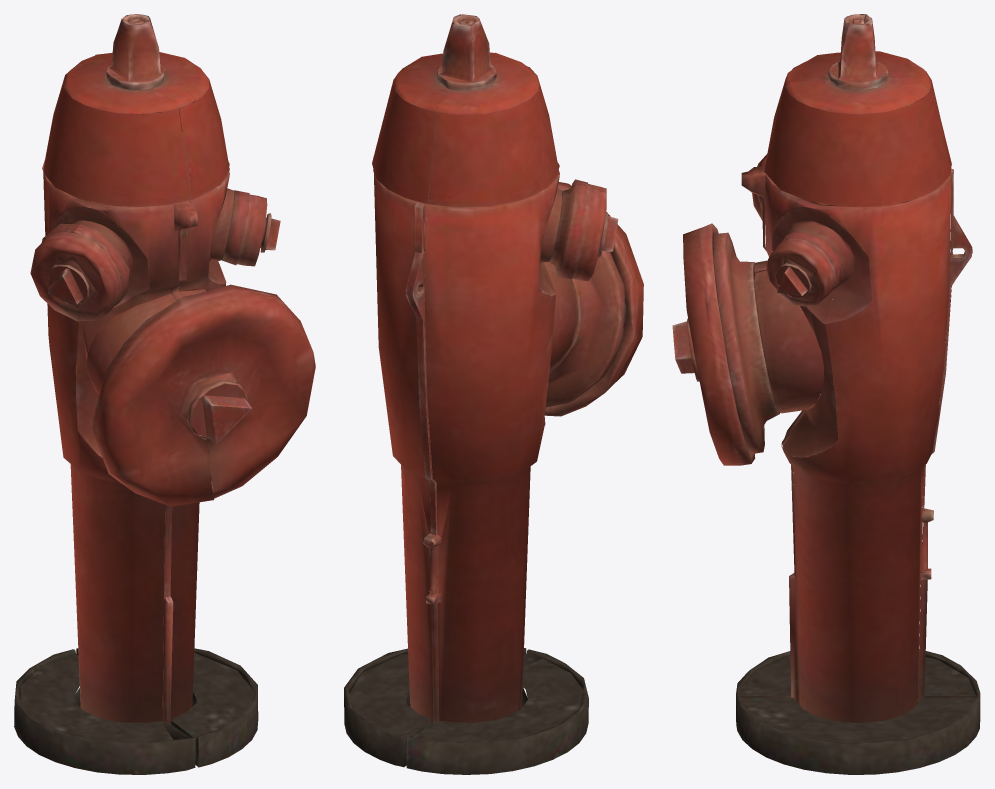
Rendered from fire_hydrant.glb.
The picture shows the model from 3 angles, left to right: view 1: azimuth 30°, elevation 25°; view 2: azimuth 150°, elevation 25°; view 3: azimuth 270°, elevation 25°; orthographic projection.
Parts seen in each view (by area): view 1: fire_hydrant, fire_hydrant_cap_01, fire_hydrant_cap_03, fire_hydrant_cap_02; view 2: fire_hydrant, fire_hydrant_cap_01, fire_hydrant_cap_03; view 3: fire_hydrant, fire_hydrant_cap_01, fire_hydrant_cap_02.
Part boxes in pixels (x1,y1,x2,y2): fire_hydrant: (14,14,258,774); fire_hydrant_cap_01: (91,284,315,506); fire_hydrant_cap_03: (30,232,121,321); fire_hydrant_cap_02: (237,194,280,266); fire_hydrant: (344,14,627,774); fire_hydrant_cap_01: (544,182,643,416); fire_hydrant_cap_03: (572,184,618,281); fire_hydrant: (713,14,980,774); fire_hydrant_cap_01: (672,223,755,465); fire_hydrant_cap_02: (766,238,835,306).
Bounding box in the file's own units: 0.2738 × 0.8008 × 0.3173.
Materials: 1 (1 with a texture image).
